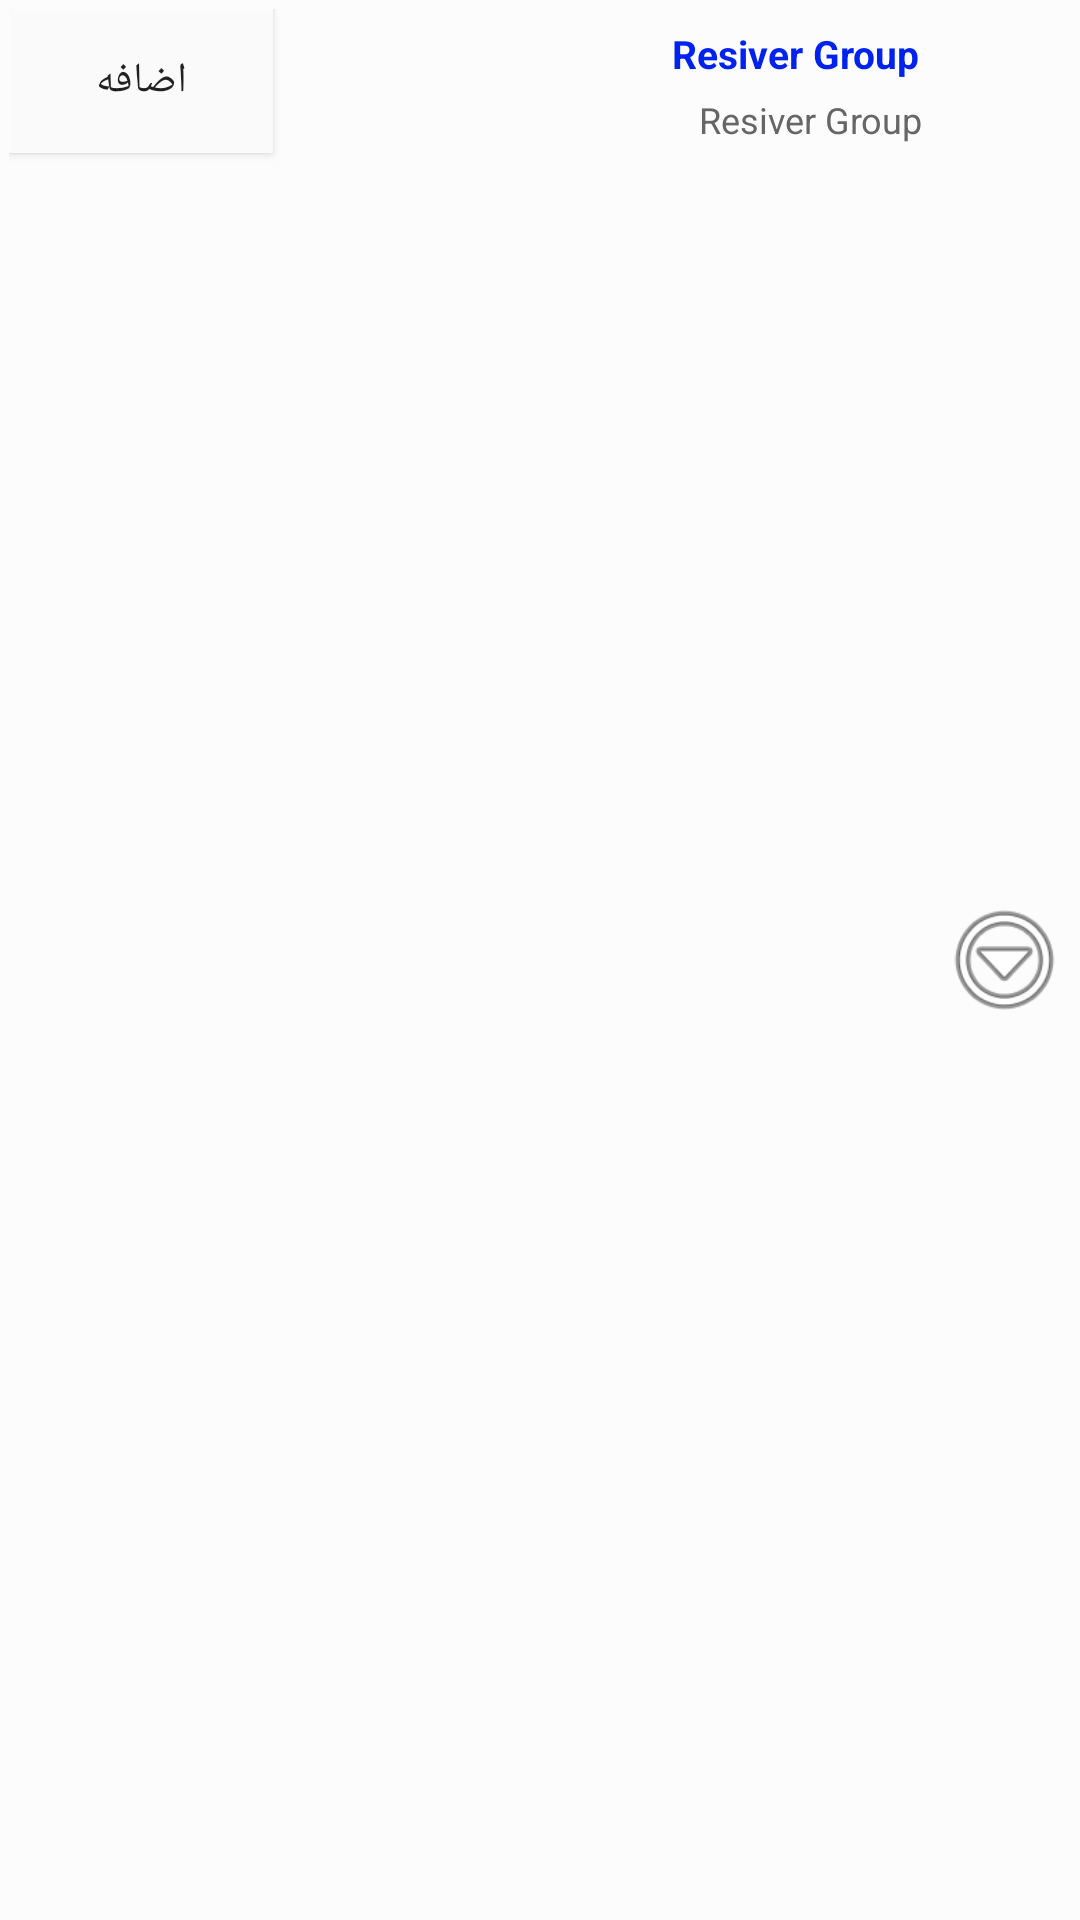

Icons on this 1080w x 1920h Android screen, each with the point to tap as (x=x, y=y):
more: (x=1004, y=960)
